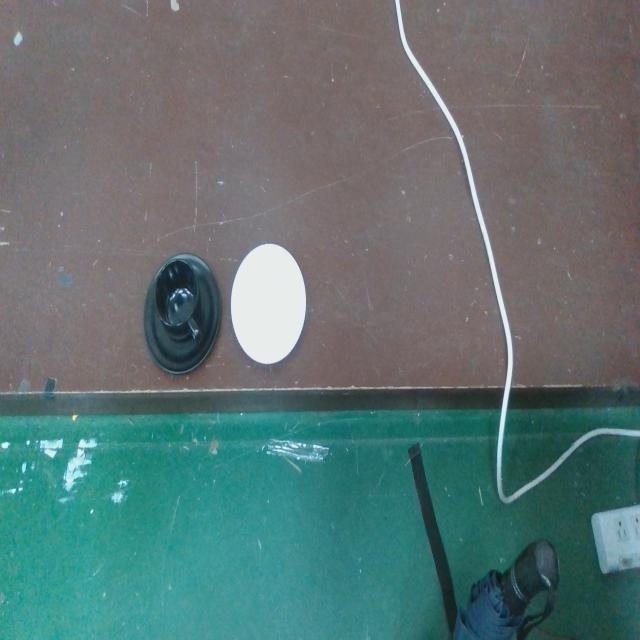black: (142, 250, 224, 378)
white: (228, 241, 309, 368)
